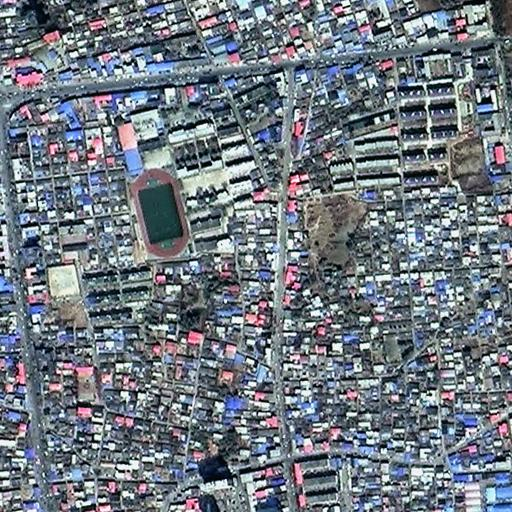school: (118, 103, 256, 261)
